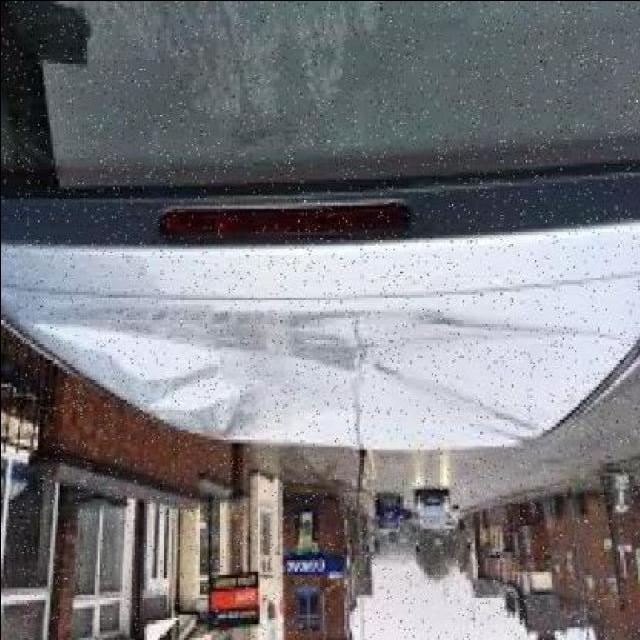roof-dent: (1, 162, 637, 469)
